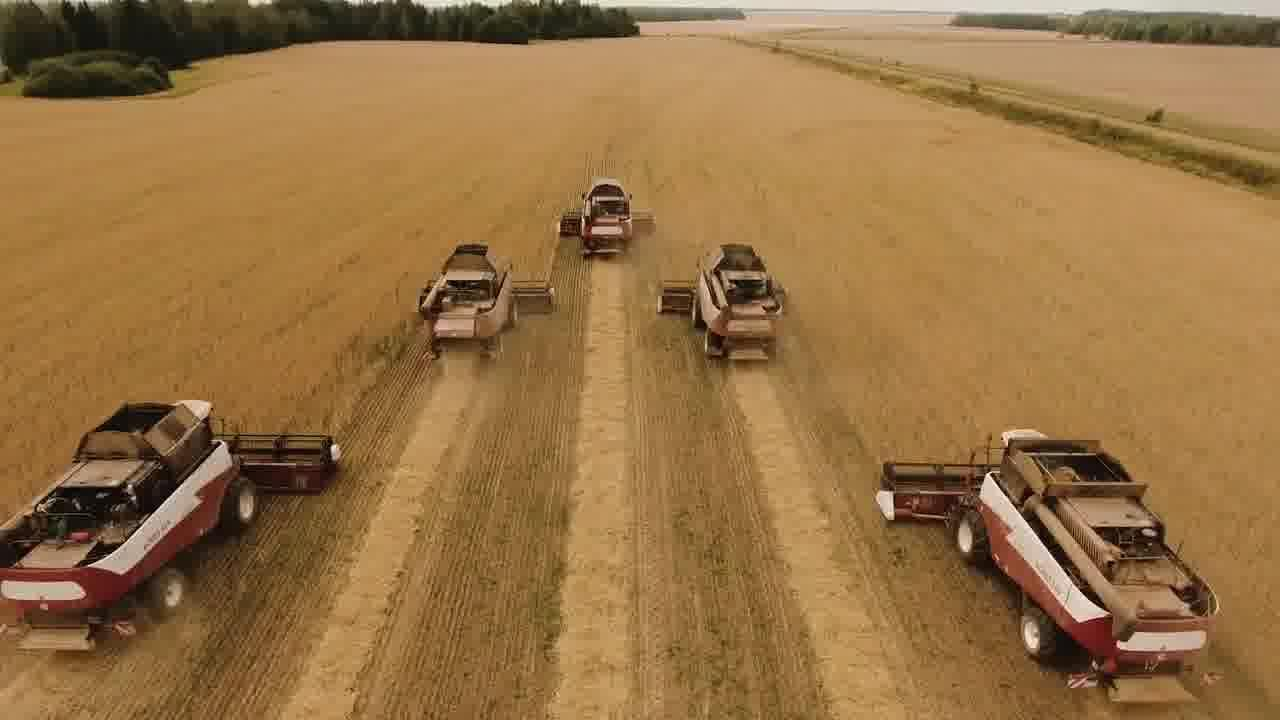combine harvester: (870, 420, 1229, 702), (0, 389, 353, 664), (411, 239, 560, 367), (655, 238, 795, 368), (557, 177, 660, 261)
